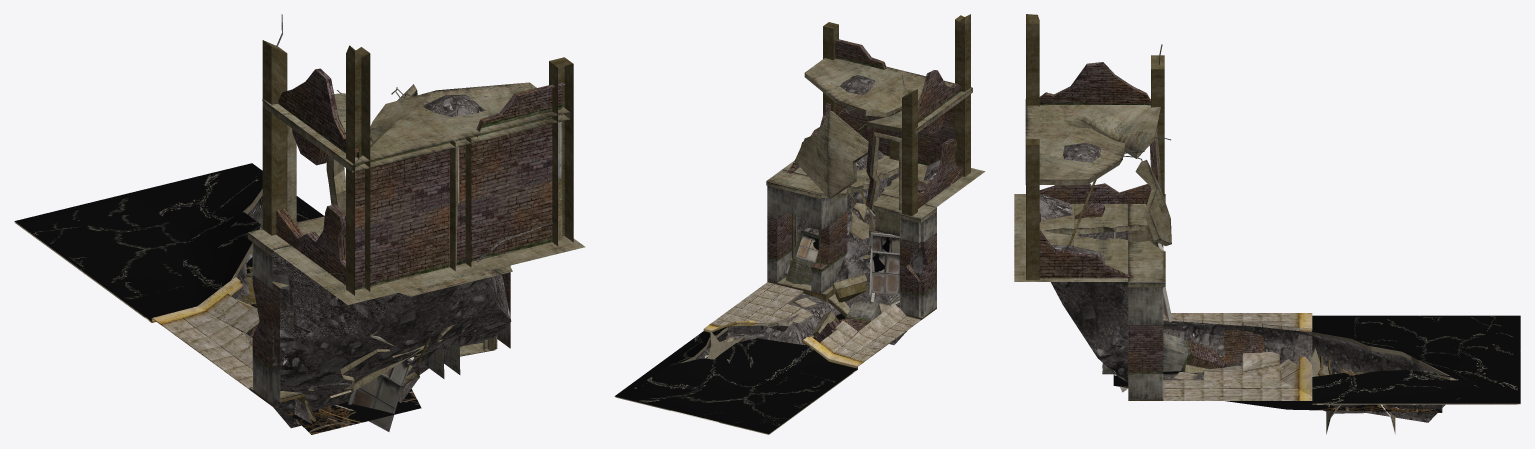
The model's file is Store_front_51.fbx.
3 renders of one model, left to right at view 1: azimuth 30°, elevation 25°; view 2: azimuth 150°, elevation 25°; view 3: azimuth 270°, elevation 25°, orthographic. The views are drawn at different scales.
Parts seen in each view (by area): view 1: Store_front_51; view 2: Store_front_51; view 3: Store_front_51.
Boxes of the visible parts, x1,y1,x2,y2 form: Store_front_51: [14, 14, 585, 434]; Store_front_51: [614, 14, 985, 434]; Store_front_51: [1014, 14, 1520, 434].
Size of the model in its own units: 700 by 1314 by 1700.
